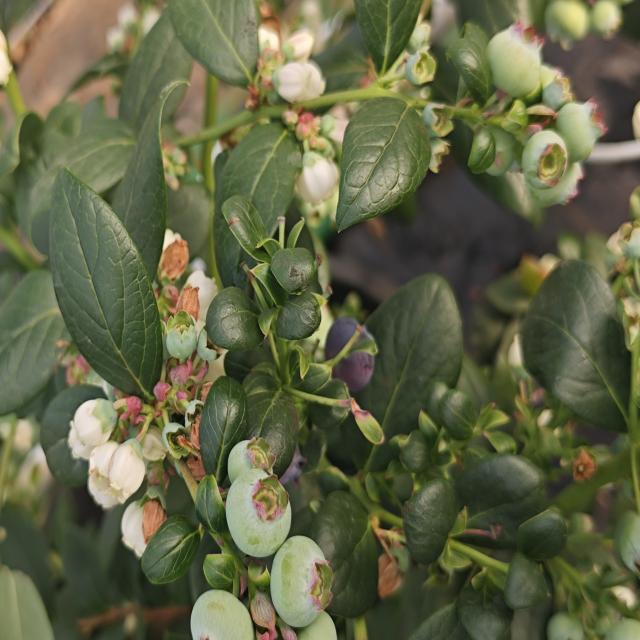ripe: (320, 304, 387, 398)
